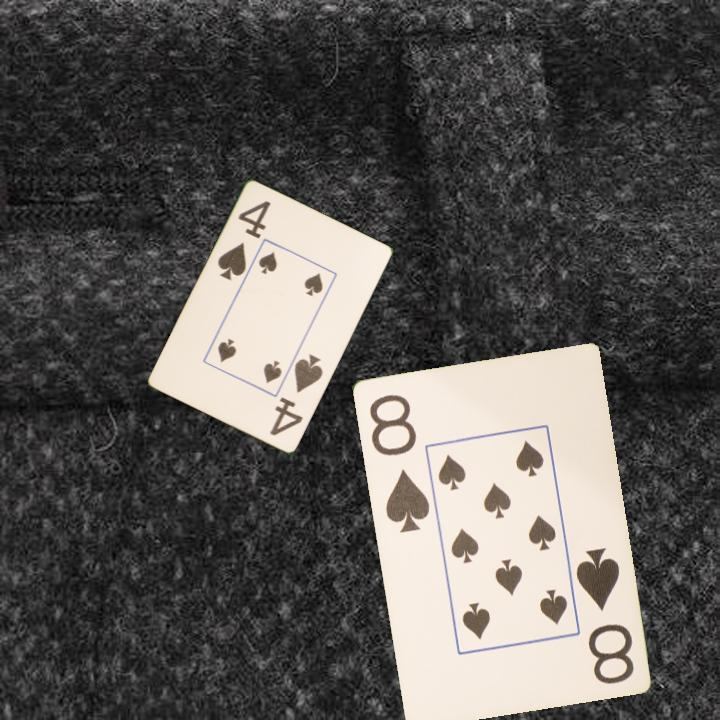4s: (266, 351, 326, 439), (214, 197, 274, 284)
8s: (365, 390, 432, 535), (572, 543, 637, 687)
